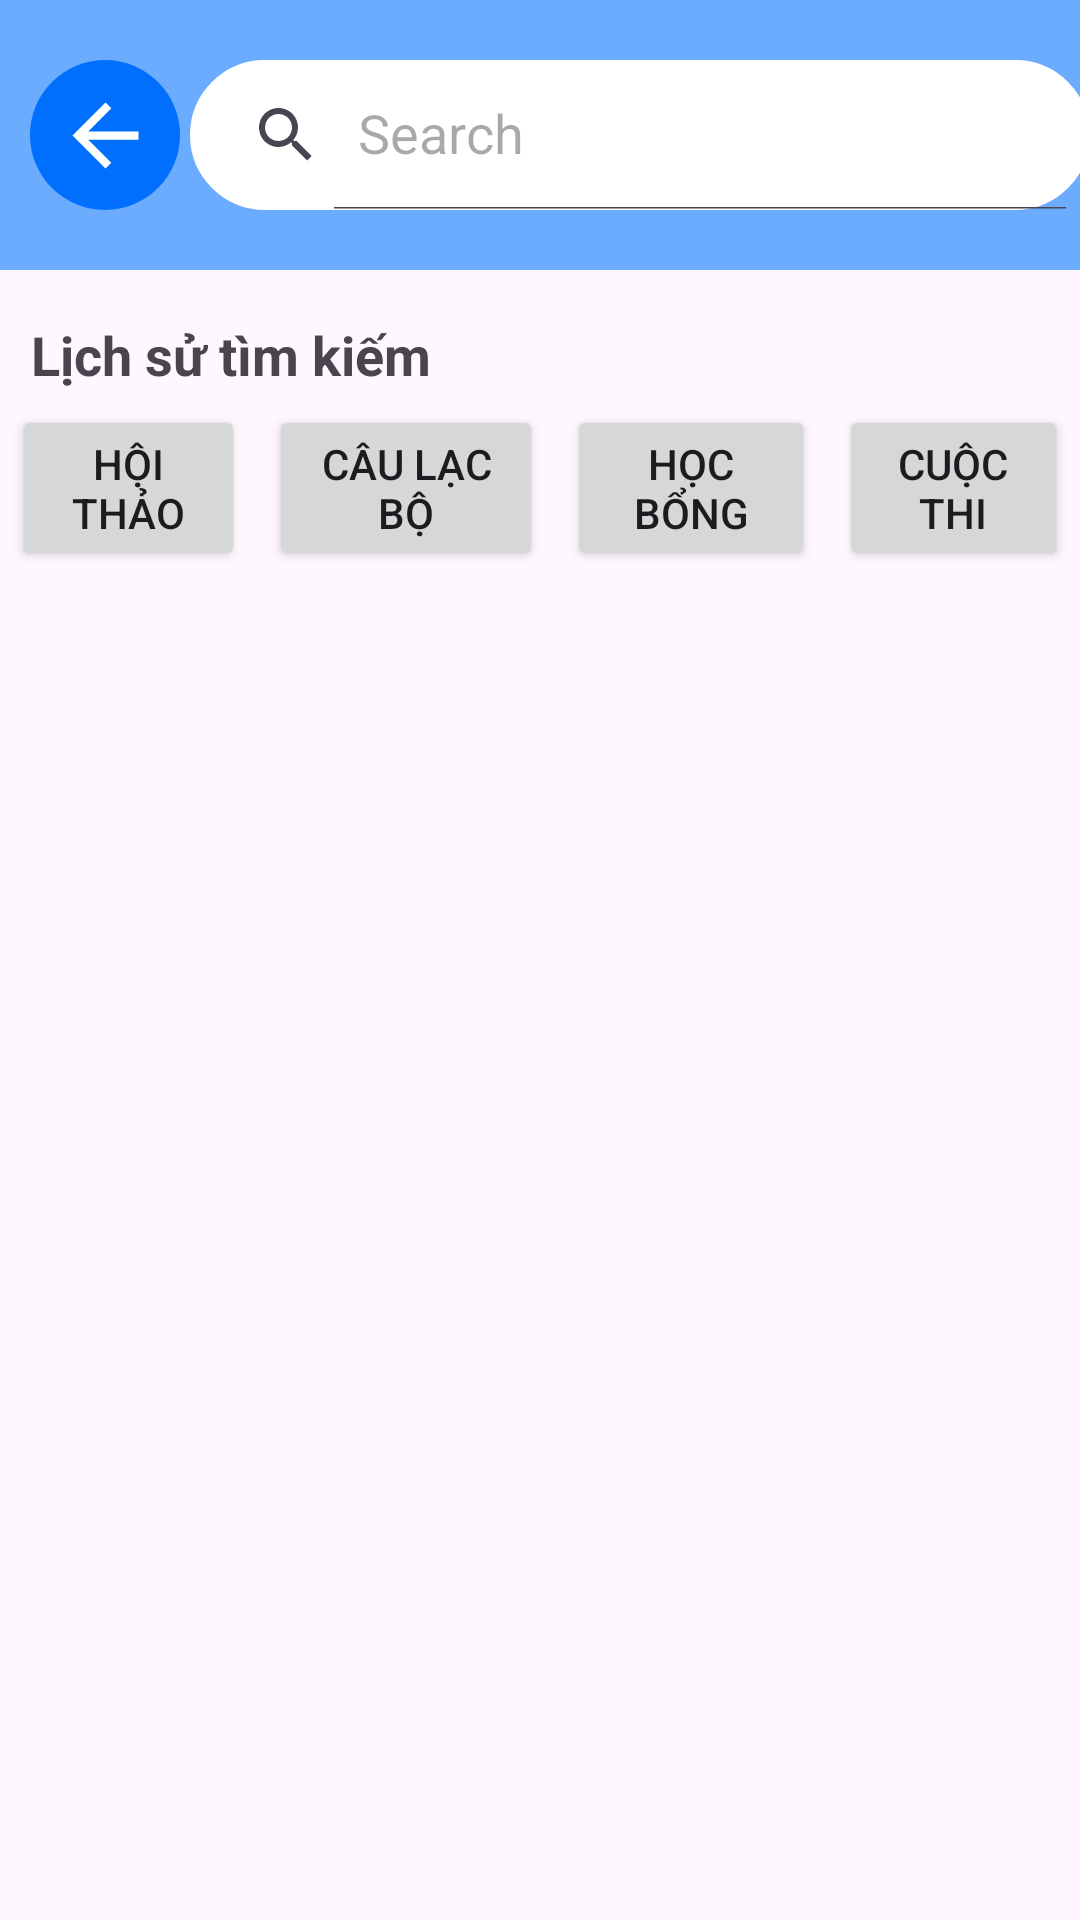

Named icons in this screenshot (1080*1920) and their centers, (x=x, y=y):
arrow back: (x=105, y=135)
